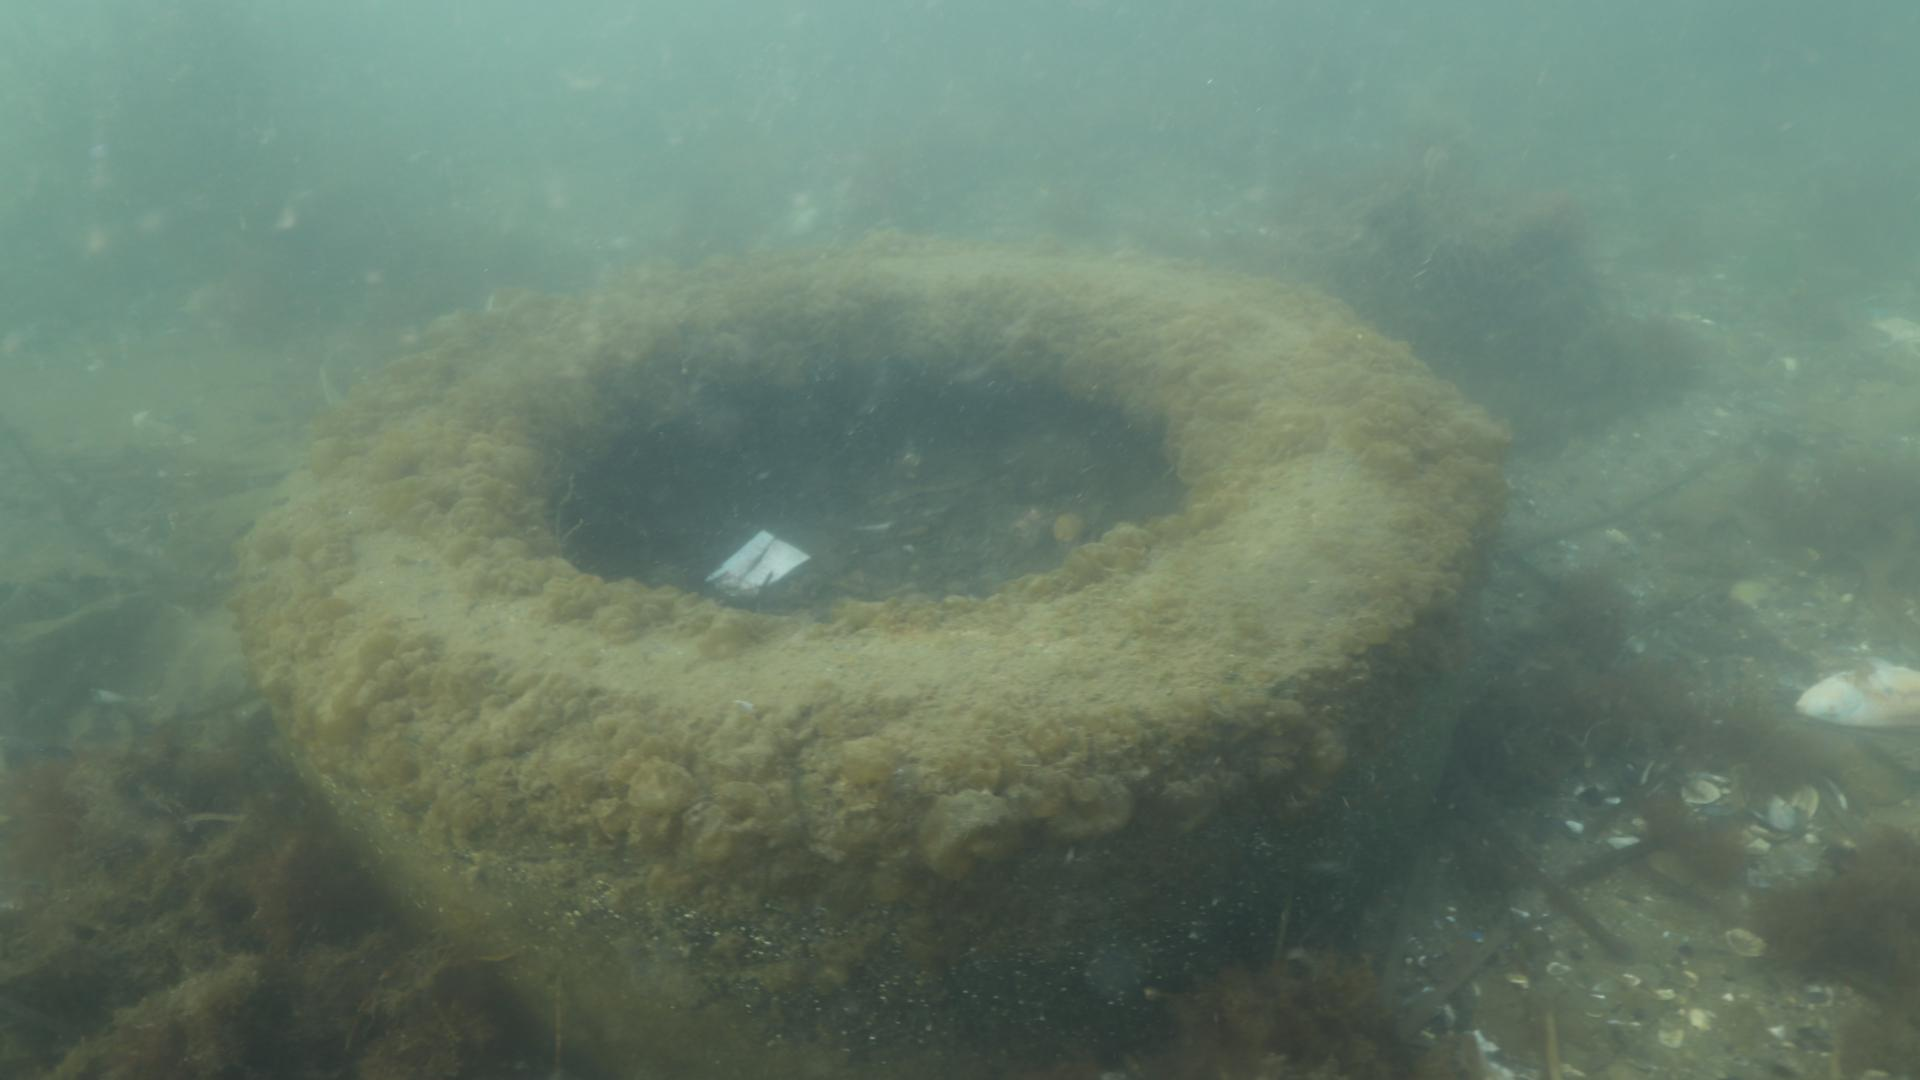tire: (237, 241, 1476, 1073)
